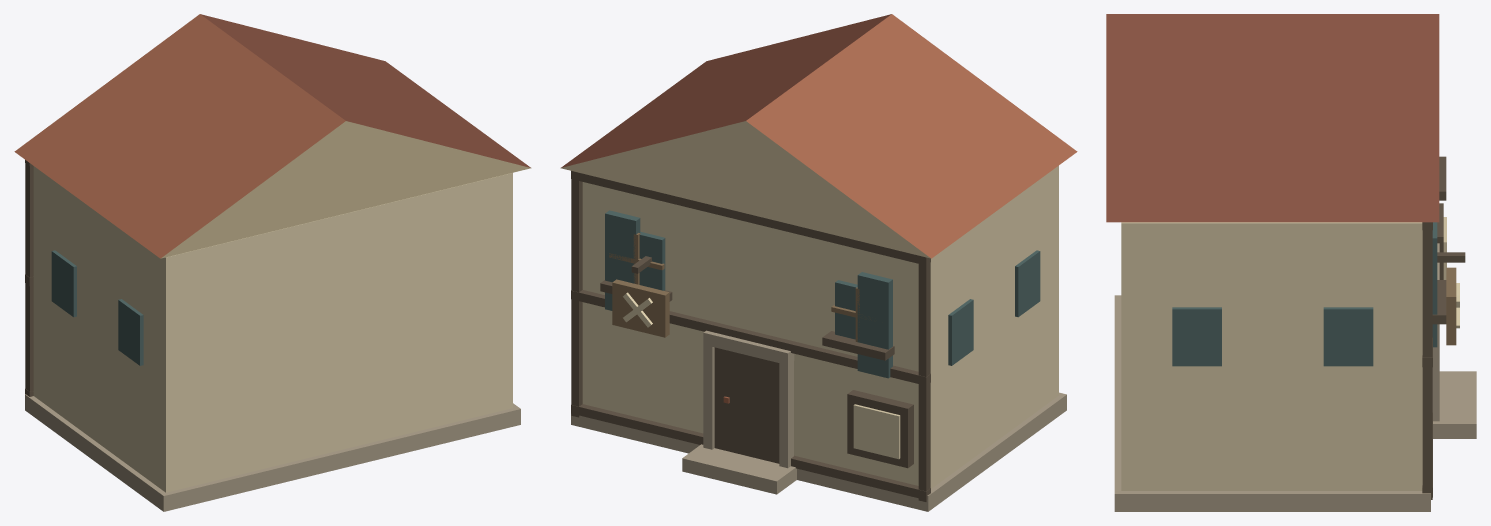
Rendered from Town_Guild.fbx.
3 renders of one model, left to right at view 1: azimuth 30°, elevation 25°; view 2: azimuth 150°, elevation 25°; view 3: azimuth 270°, elevation 25°, orthographic. The views are drawn at different scales.
Parts seen in each view (by area): view 1: Town_Guild; view 2: Town_Guild; view 3: Town_Guild.
Part boxes in pixels (left/top/right/bottom): Town_Guild: left=14, top=14, right=531, bottom=511; Town_Guild: left=560, top=14, right=1077, bottom=511; Town_Guild: left=1106, top=14, right=1476, bottom=511.
Bounding box in the file's own units: 5.88 × 5.3 × 4.46.
